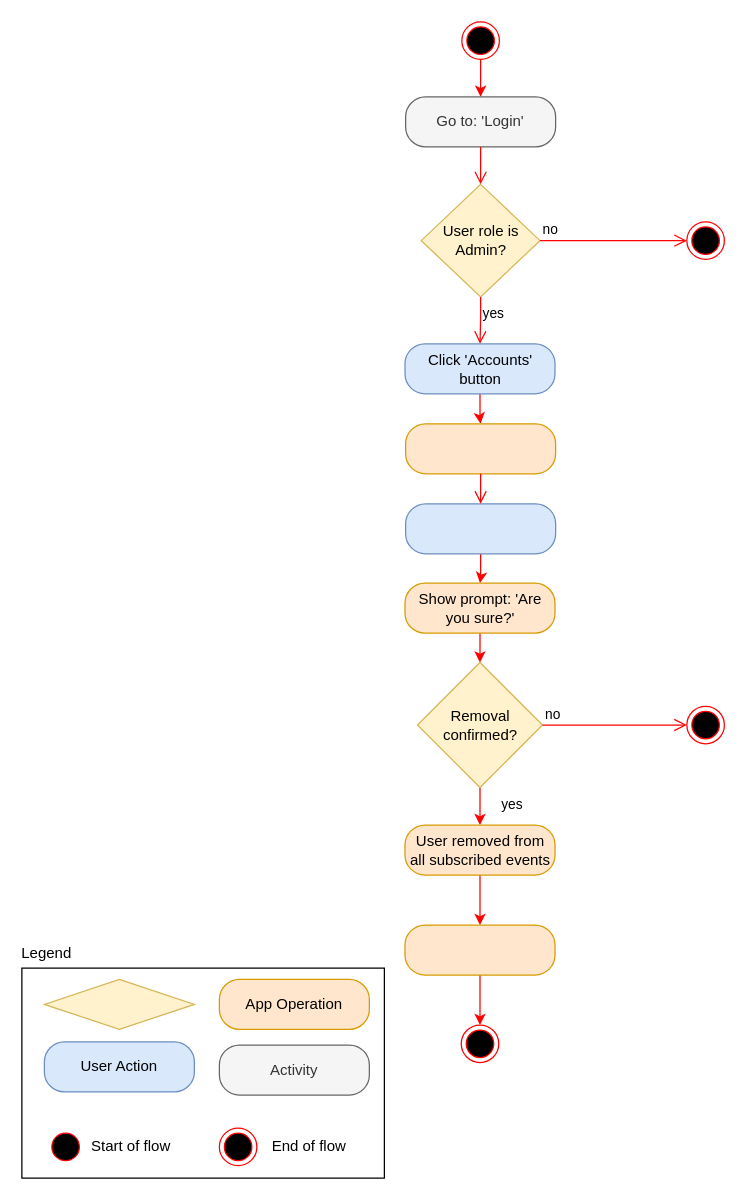
The diagram is 746 pixels wide and 1200 high, and some of its shapes have lost their labels. The shapes that lost their labels are listed below. From the top down, each one's centre as x and y in pixels, then its label:
the point at 480,448: Redirect to 'Accounts'
the point at 480,528: Click 'Delete' button
the point at 479,949: Show notification: 'User removed'
the point at 118,1003: Condition
